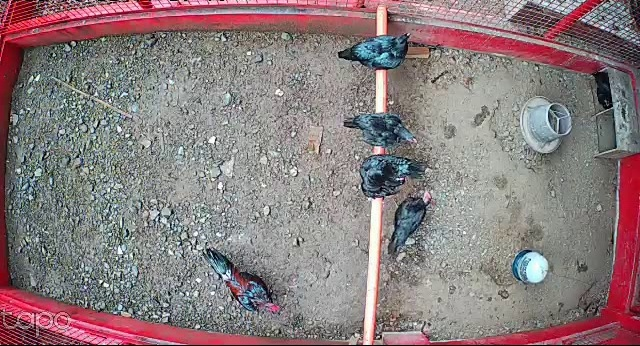Chicken: (357, 152, 425, 202), (383, 189, 433, 257), (341, 110, 420, 148), (338, 31, 412, 70)
Drinker: (510, 249, 550, 285)
Feeder: (519, 92, 574, 154)
Rooster: (199, 244, 282, 317)
